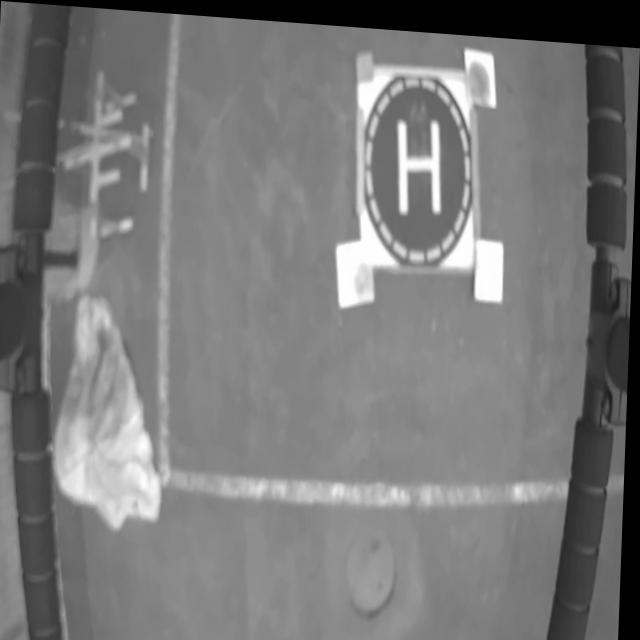Helipad: (395, 113, 443, 211)
